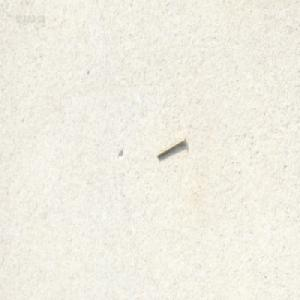Bolt: (155, 135, 185, 158)
